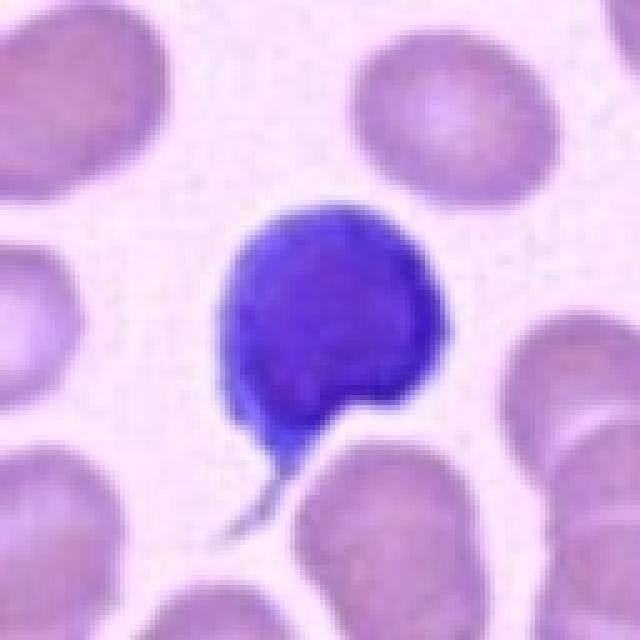lympho: (206, 196, 459, 534)
